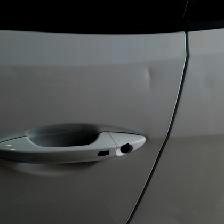door_dent: (144, 60, 167, 95)
